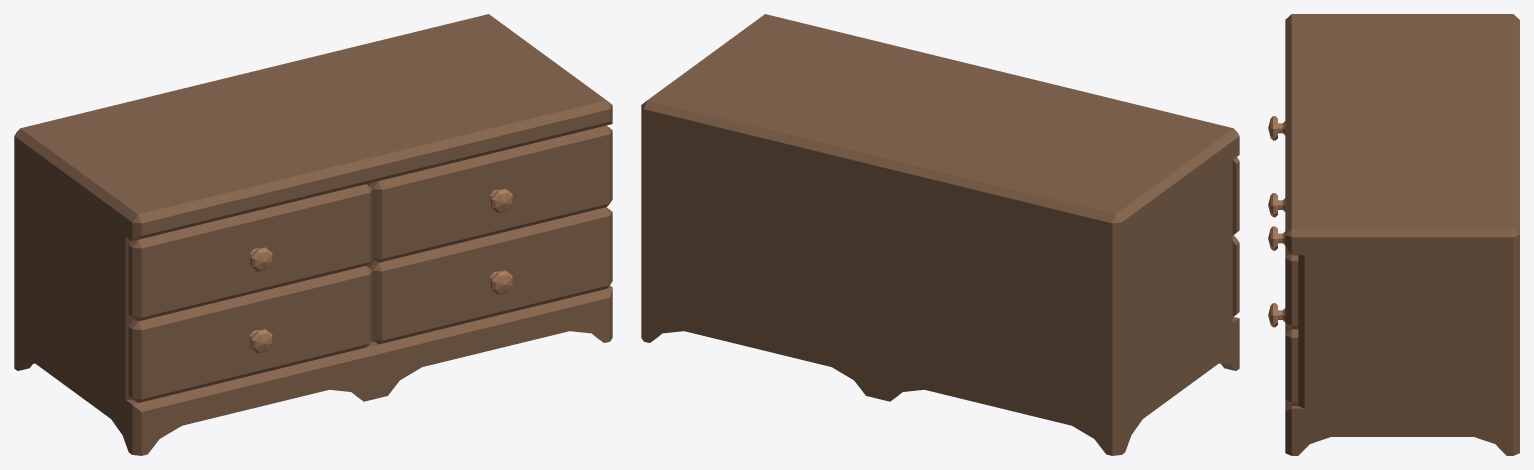
The model's file is Prop_Bedroom_Dresser_Double.obj.
3 renders of one model, left to right at view 1: azimuth 30°, elevation 25°; view 2: azimuth 150°, elevation 25°; view 3: azimuth 270°, elevation 25°, orthographic. The views are drawn at different scales.
Visible parts, largest first — view 1: object4, object3, object5, object2, object1; view 2: object4, object3, object5; view 3: object4, object2, object1, object5, object3.
Boxes of the visible parts, x1=… form: object4: x1=14, y1=14, x2=612, y2=455; object3: x1=128, y1=266, x2=372, y2=402; object5: x1=128, y1=184, x2=372, y2=321; object2: x1=369, y1=207, x2=612, y2=344; object1: x1=369, y1=125, x2=612, y2=262; object4: x1=641, y1=14, x2=1239, y2=455; object3: x1=1232, y1=235, x2=1239, y2=317; object5: x1=1232, y1=157, x2=1239, y2=235; object4: x1=1285, y1=14, x2=1519, y2=455; object2: x1=1268, y1=303, x2=1298, y2=405; object1: x1=1268, y1=226, x2=1298, y2=329; object5: x1=1268, y1=116, x2=1285, y2=140; object3: x1=1268, y1=193, x2=1285, y2=217.
Size of the model in its own units: 2 by 0.95 by 0.9656.
